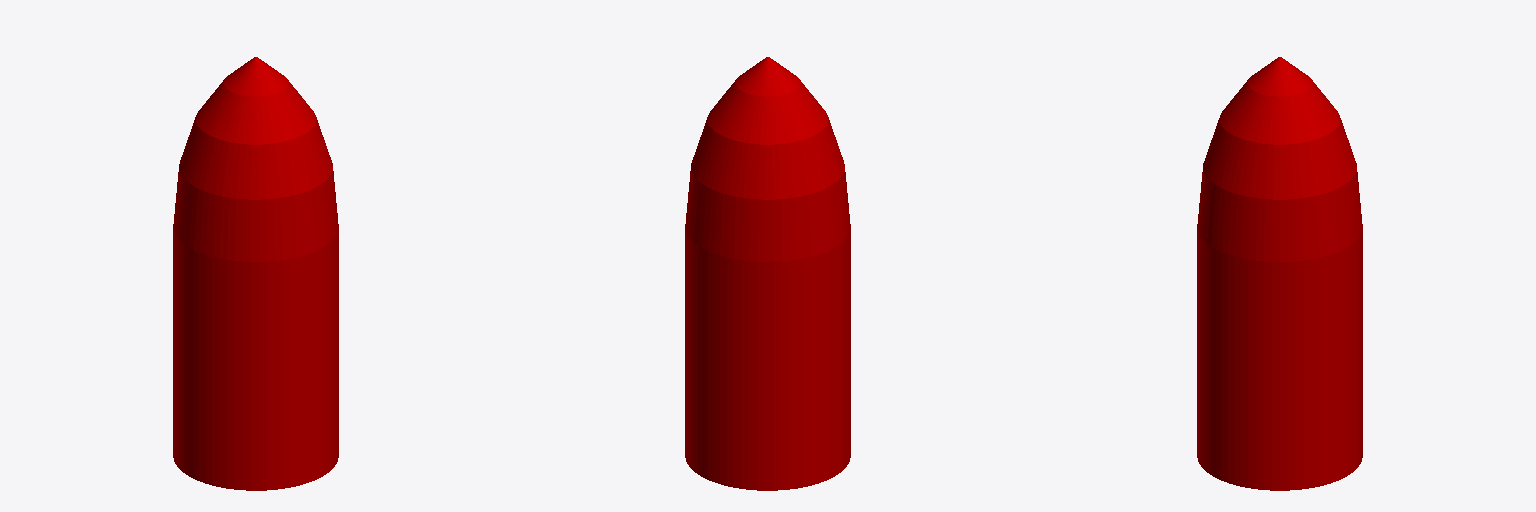
The model's file is hit_bullet.obj.
3 renders of one model, left to right at view 1: azimuth 30°, elevation 25°; view 2: azimuth 150°, elevation 25°; view 3: azimuth 270°, elevation 25°, orthographic.
Parts seen in each view (by area): view 1: Cylinder; view 2: Cylinder; view 3: Cylinder.
Boxes of the visible parts, box(x1,y1,x2,y2) form: Cylinder: box(173, 57, 338, 490); Cylinder: box(685, 57, 850, 490); Cylinder: box(1197, 57, 1362, 490).
Bounding box in the file's own units: 0.7742 × 2.06 × 0.7742.